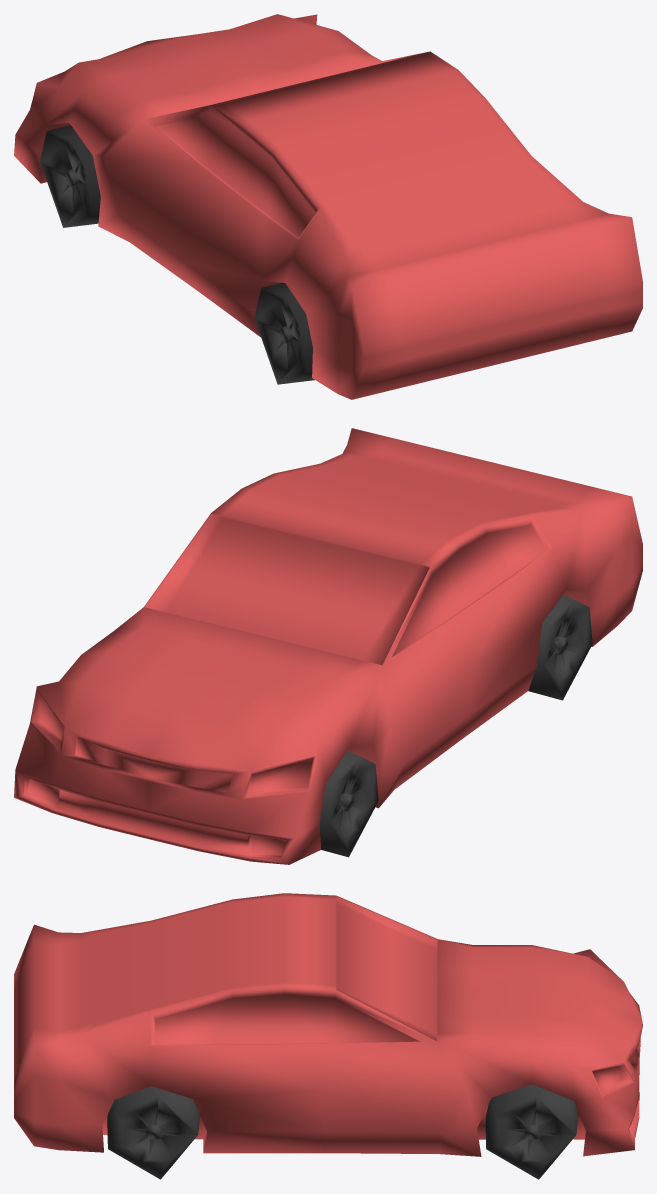
3 renders of one model, top to bottom at view 1: azimuth 30°, elevation 25°; view 2: azimuth 150°, elevation 25°; view 3: azimuth 270°, elevation 25°, orthographic. The views are drawn at different scales.
Parts seen in each view (by area): view 1: body, wheel.002, wheel.003; view 2: body, wheel.002, wheel.003; view 3: body, wheel, wheel.001.
Part boxes in pixels (bbox=[...]): body: bbox=[14, 14, 642, 399]; wheel.002: bbox=[40, 125, 100, 227]; wheel.003: bbox=[254, 282, 314, 384]; body: bbox=[14, 428, 642, 864]; wheel.002: bbox=[319, 751, 378, 857]; wheel.003: bbox=[528, 595, 592, 700]; body: bbox=[14, 893, 642, 1156]; wheel: bbox=[485, 1084, 578, 1179]; wheel.001: bbox=[107, 1086, 199, 1179].
Size of the model in its own units: 2.07 by 1.38 by 4.4.
